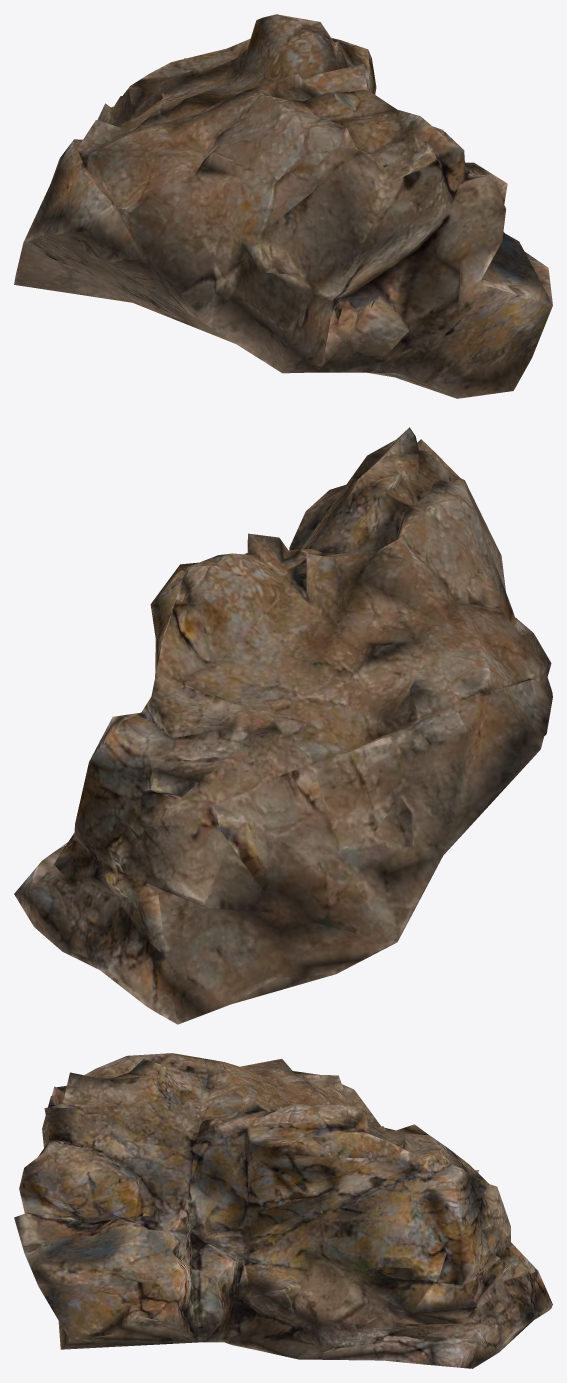
Rendered from boulder.glb.
3 renders of one model, top to bottom at view 1: azimuth 30°, elevation 25°; view 2: azimuth 150°, elevation 25°; view 3: azimuth 270°, elevation 25°, orthographic. The views are drawn at different scales.
Parts seen in each view (by area): view 1: boulder_01; view 2: boulder_01; view 3: boulder_01.
Boxes of the visible parts, bbox=[...] form: boulder_01: bbox=[14, 14, 552, 398]; boulder_01: bbox=[14, 427, 552, 1024]; boulder_01: bbox=[14, 1053, 552, 1368].
Bounding box in the file's own units: 1.38 × 1.07 × 1.98.
1 material, 1 textured.
